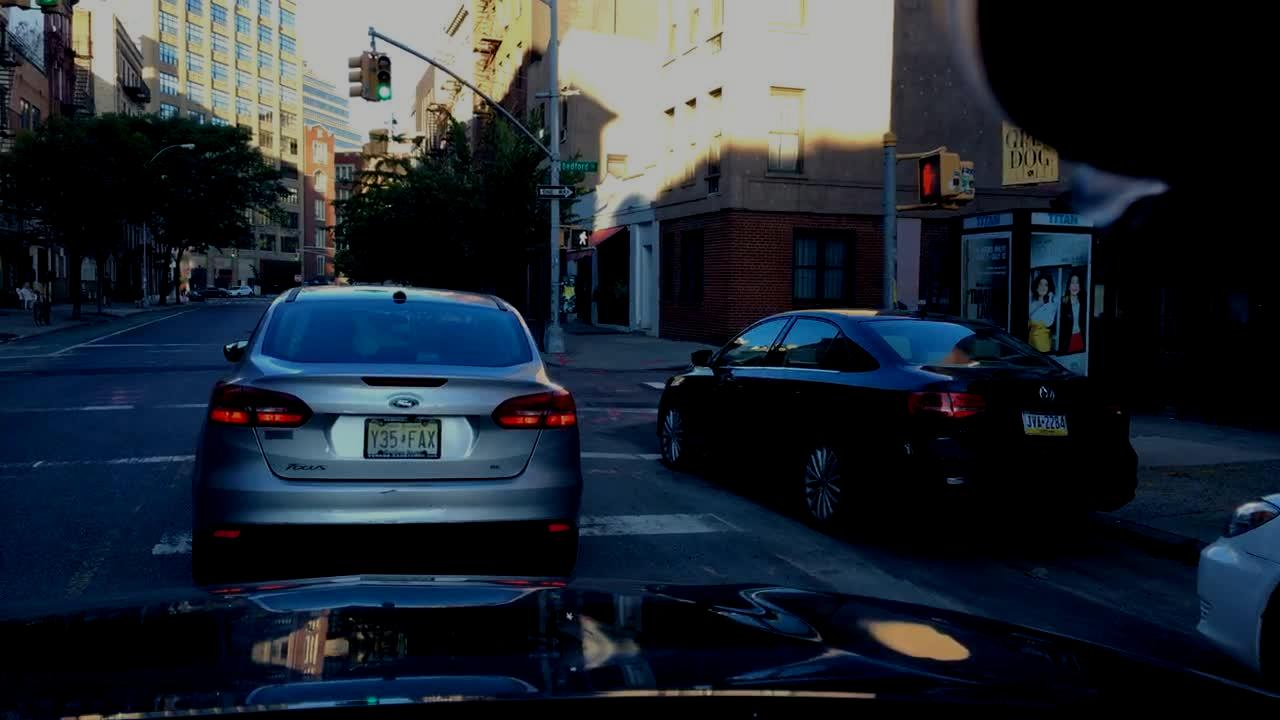Volkswagen: (1039, 385, 1056, 404)
ford: (383, 394, 422, 414)
